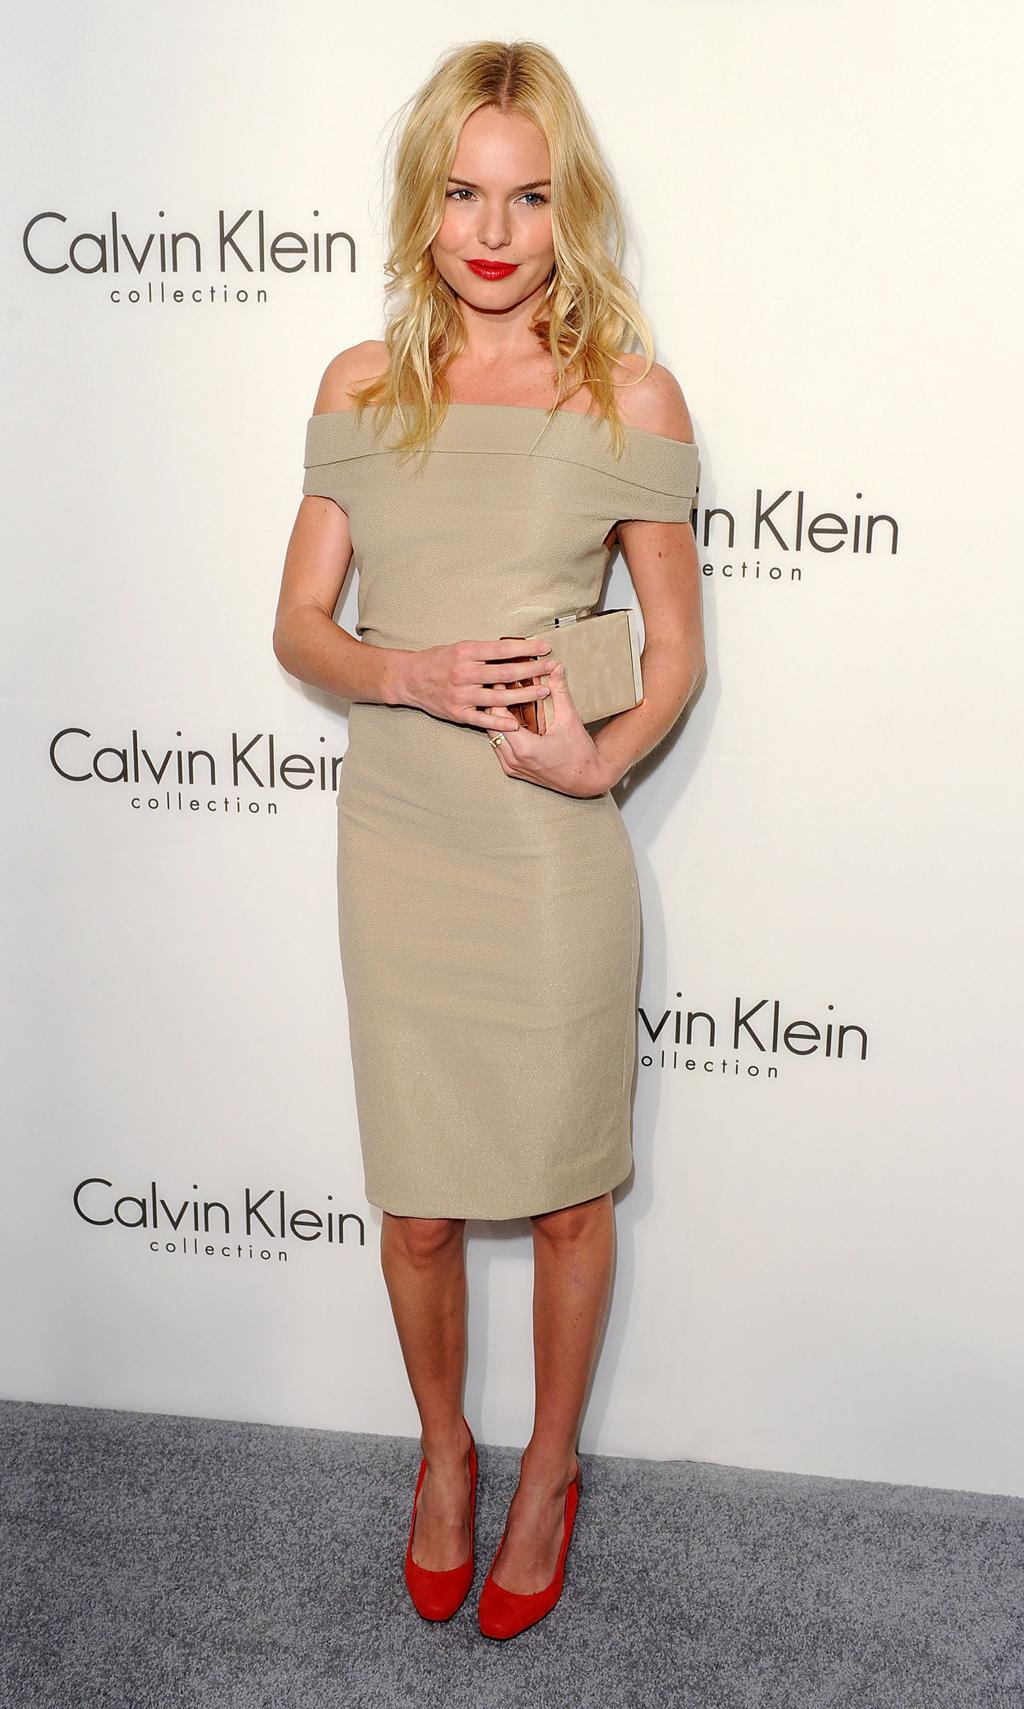face: (424, 103, 564, 313)
